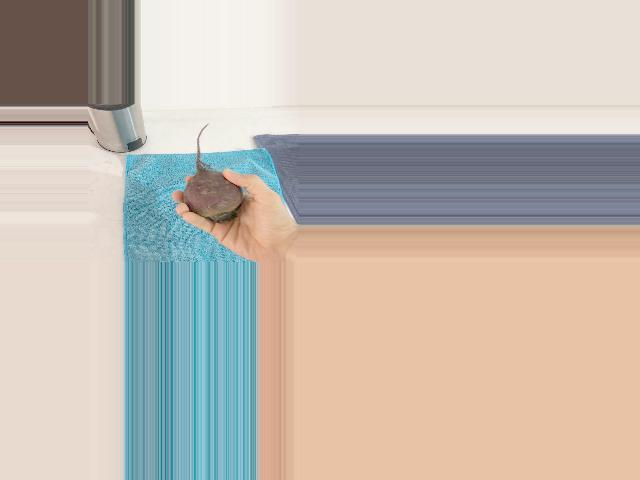beet: (182, 124, 242, 224)
